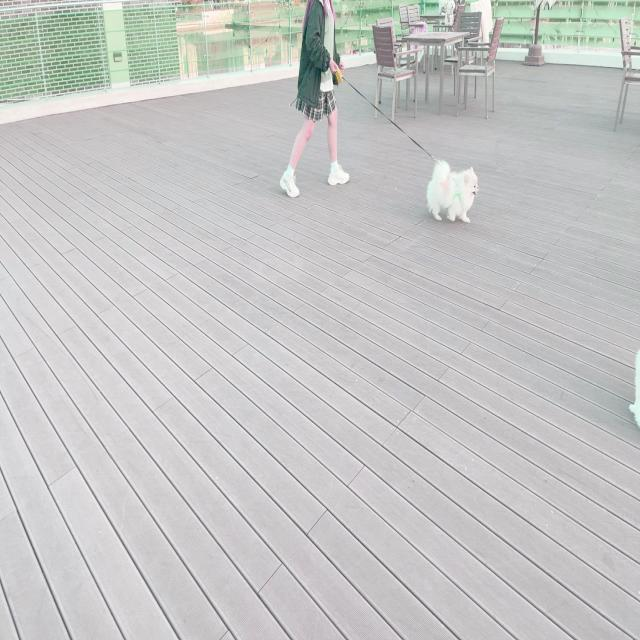Leashed_Dog: (315, 45, 479, 225)
